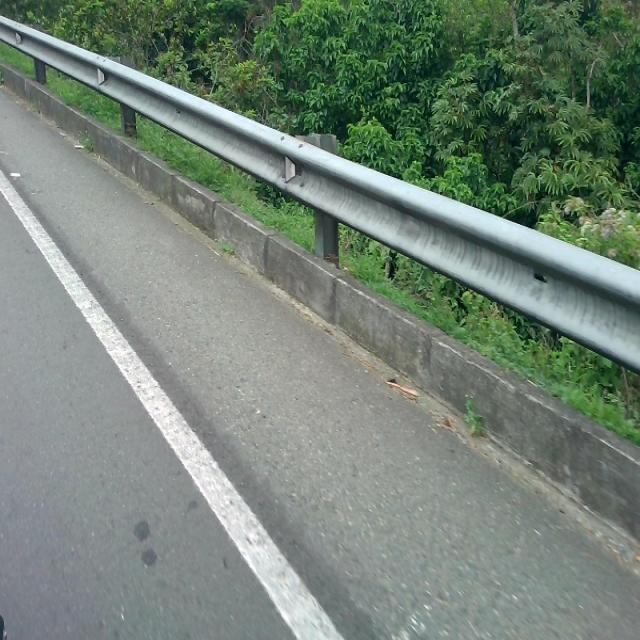DITCH: (1, 85, 639, 638), (1, 92, 637, 638)
